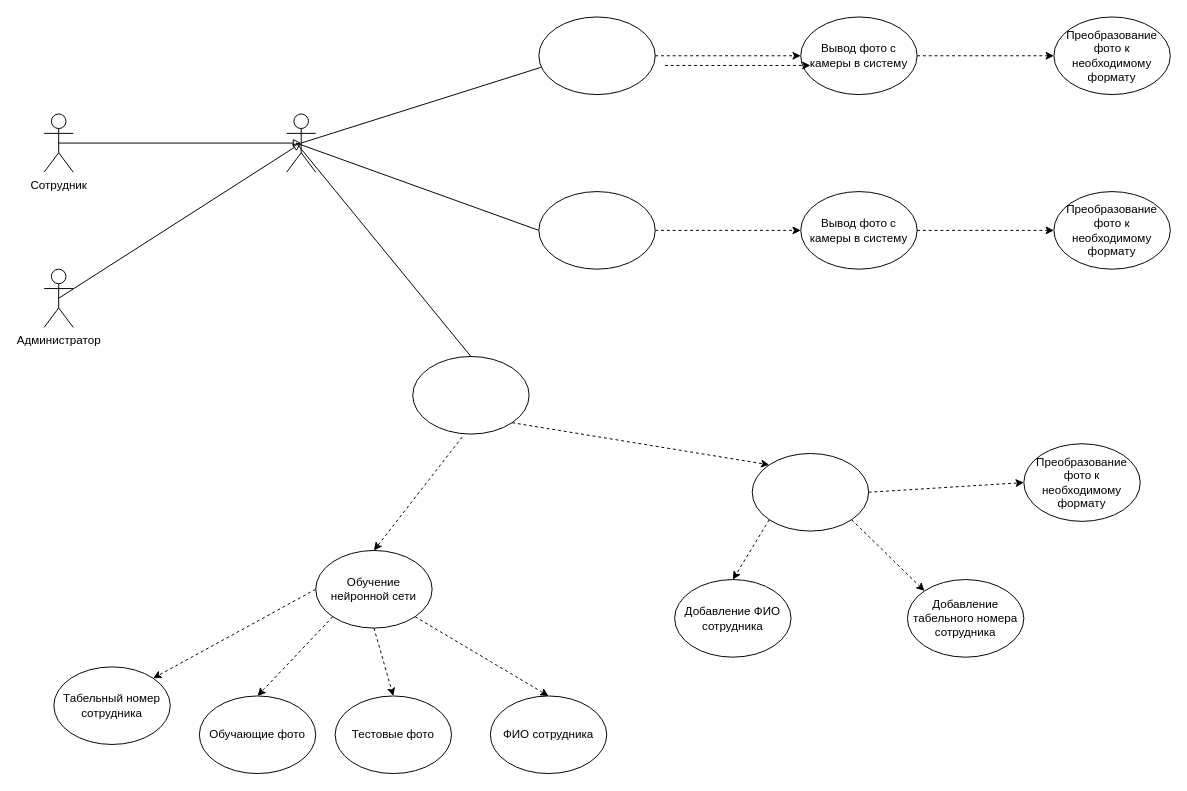
This 1187x791 diagram has some shape labels left out. The centre of each missing label's shape, as x and y in pixels:
Добавление сотрудника в БД: the point at 470,395
Пользователь: the point at 301,142
Распознание сотрудника при входе на предприятие: the point at 596,55
Распознание сотрудников камерами на предприятии: the point at 596,230
Создание фотографий сотрудника: the point at 810,492
